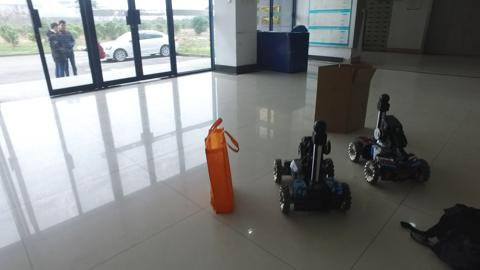bag: (203, 118, 240, 213)
chariot: (348, 91, 434, 188), (272, 119, 352, 215)
